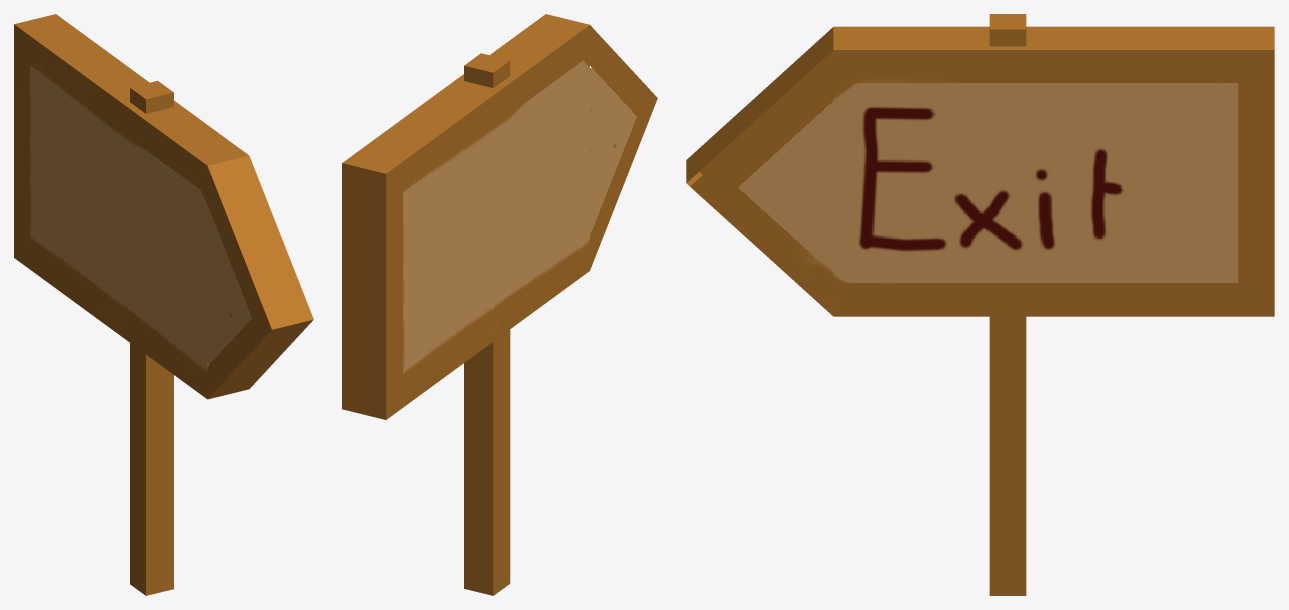
Rendered from exitSign.gltf.
3 views of the same model, side by side, from view 1: azimuth 30°, elevation 25°; view 2: azimuth 150°, elevation 25°; view 3: azimuth 270°, elevation 25° (orthographic). The views are drawn at different scales.
Visible parts, largest first — view 1: mesh, mesh.001; view 2: mesh, mesh.001; view 3: mesh, mesh.001.
Part boxes in pixels (left/top/right/bottom): mesh: left=14, top=14, right=313, bottom=399; mesh.001: left=130, top=80, right=173, bottom=595; mesh: left=342, top=14, right=657, bottom=419; mesh.001: left=464, top=53, right=510, bottom=595; mesh: left=686, top=26, right=1274, bottom=316; mesh.001: left=989, top=14, right=1026, bottom=595.
Bounding box in the file's own units: 0.0938 × 1.06 × 1.
2 materials, 2 textured.
